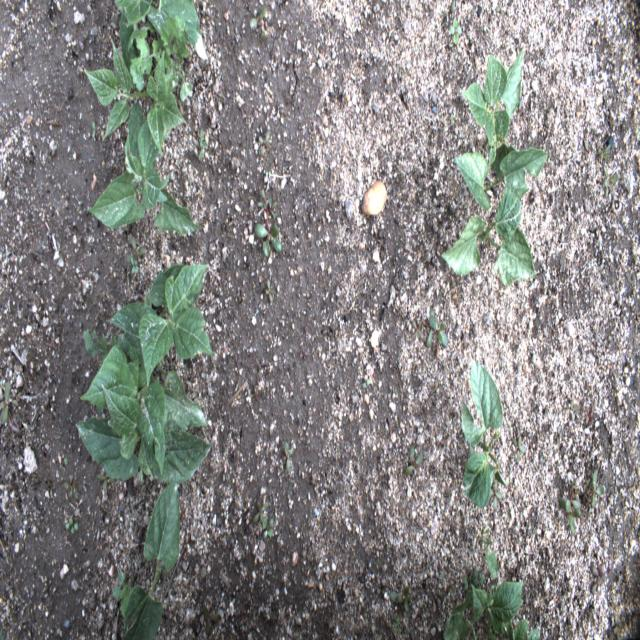crop: (76, 342, 215, 482), (87, 102, 204, 234), (108, 263, 215, 394), (83, 40, 186, 156), (120, 472, 180, 640), (441, 191, 537, 288), (461, 48, 526, 168), (115, 1, 202, 90), (460, 358, 510, 510), (442, 548, 522, 639), (453, 143, 549, 210)
weed: (128, 15, 191, 100), (255, 188, 282, 256), (83, 326, 132, 362), (411, 304, 448, 348), (558, 483, 582, 536), (488, 618, 540, 640), (582, 464, 604, 508), (127, 235, 147, 273), (403, 445, 425, 476), (113, 568, 130, 600), (388, 592, 413, 612), (511, 432, 526, 462), (603, 173, 619, 201), (252, 498, 269, 524), (1, 380, 11, 422), (62, 475, 78, 501), (448, 17, 463, 44), (96, 468, 114, 490), (282, 441, 294, 471), (595, 143, 610, 163), (259, 130, 270, 156), (264, 276, 274, 304), (262, 516, 274, 539), (66, 516, 78, 532)
